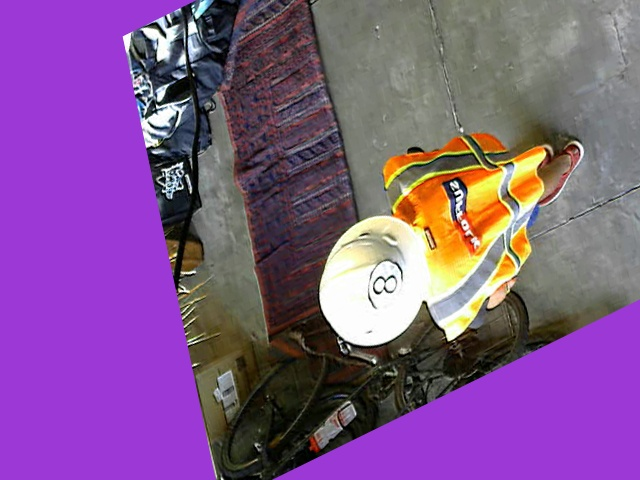eight: (361, 253, 406, 315)
